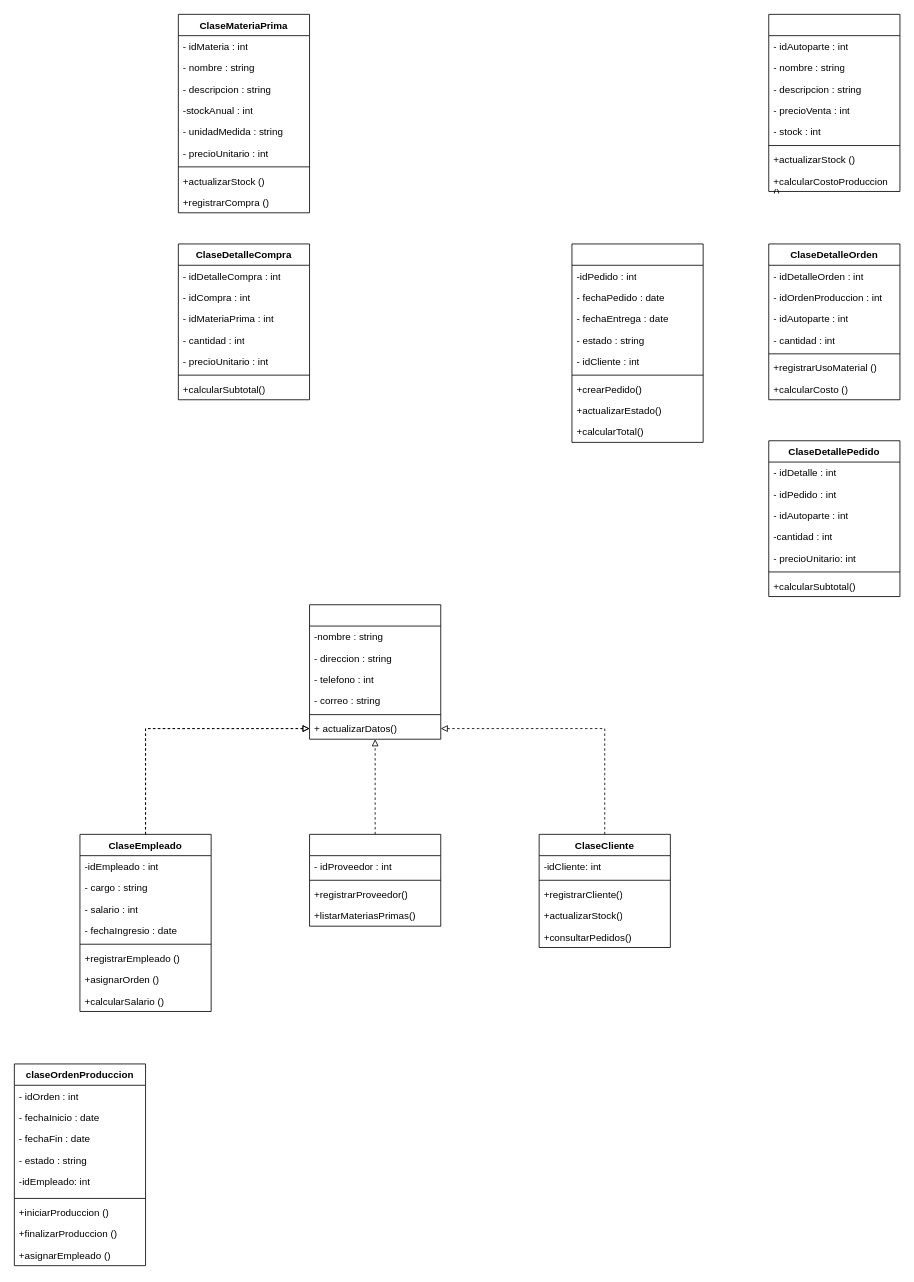
The diagram is 914 pixels wide and 1282 high, and some of its shapes have lost their labels. The box of each missing label's shape, as (x1, y1, x2, y2) in pixels:
ClaseAutoparte: (768, 14, 900, 191)
ClasePedidoCliente: (571, 243, 703, 442)
ClasePersona: (309, 604, 441, 739)
ClaseProveedor: (309, 834, 441, 926)
